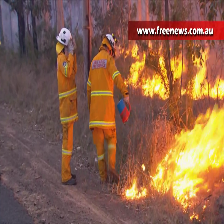fire_h: (151, 104, 224, 218), (115, 40, 189, 100), (191, 43, 224, 100), (125, 177, 147, 200)
fire_l: (189, 213, 199, 220), (140, 164, 146, 171), (202, 205, 206, 210)
